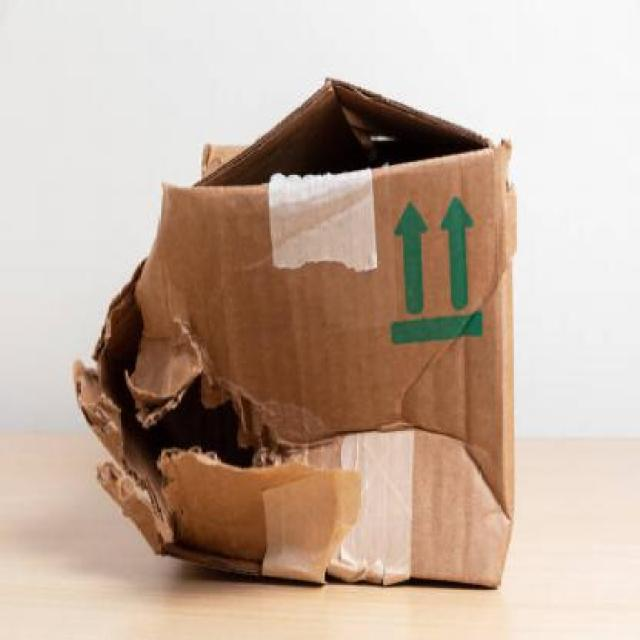box: (72, 62, 539, 634)
